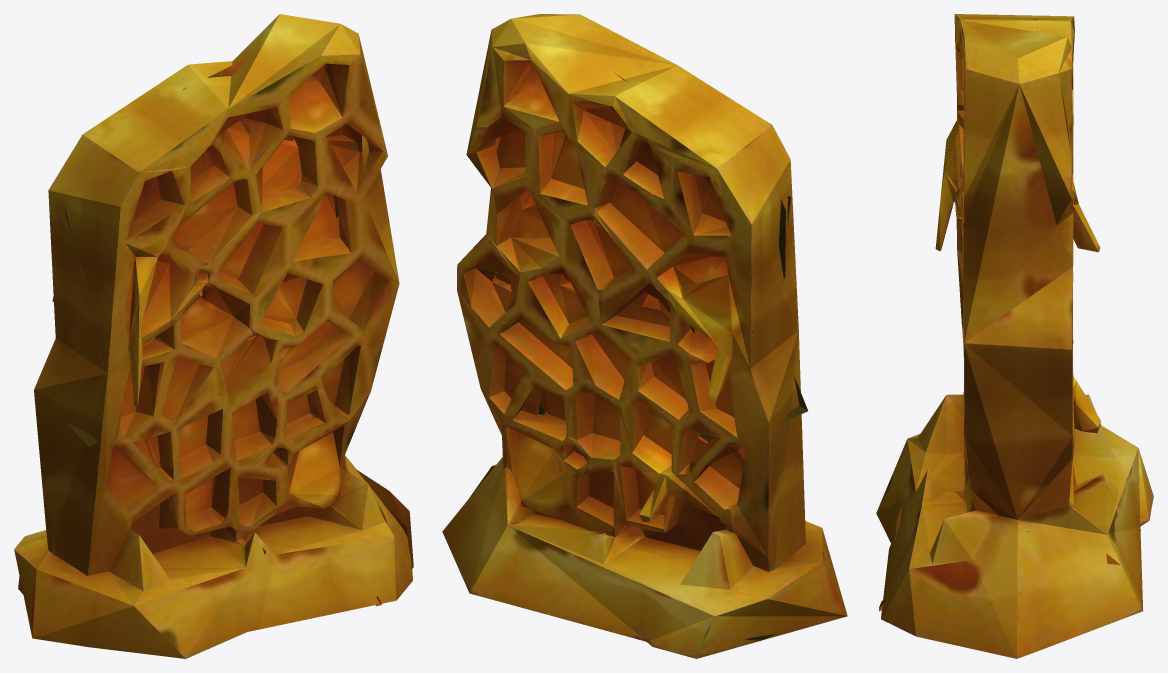
Rendered from d_ruche_rayon.glb.
3 views of the same model, side by side, from view 1: azimuth 30°, elevation 25°; view 2: azimuth 150°, elevation 25°; view 3: azimuth 270°, elevation 25° (orthographic). The views are drawn at different scales.
Parts seen in each view (by area): view 1: geometry_0; view 2: geometry_0; view 3: geometry_0.
Boxes of the visible parts, x1,y1,x2,y2 form: geometry_0: (14, 14, 413, 658); geometry_0: (442, 14, 847, 658); geometry_0: (876, 14, 1153, 658).
Size of the model in its own units: 0.762 by 1 by 0.4384.
1 material, 1 textured.
